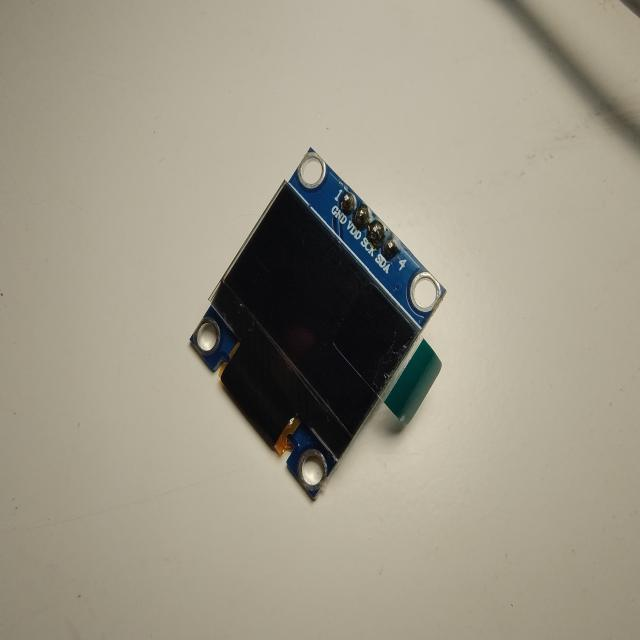oled: (185, 142, 450, 510)
